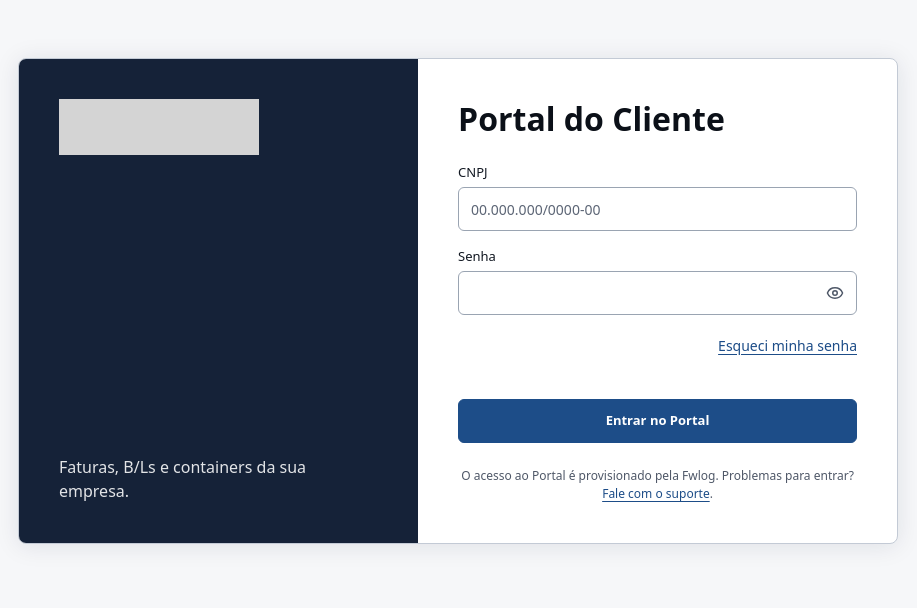
Test: mostra erro de conexao quando o login falha por rede
Type "12.345.678/0001-95" into the field with placeholder "00.000.000/0000-00". click: [658, 209]
box: [458,187,857,231]
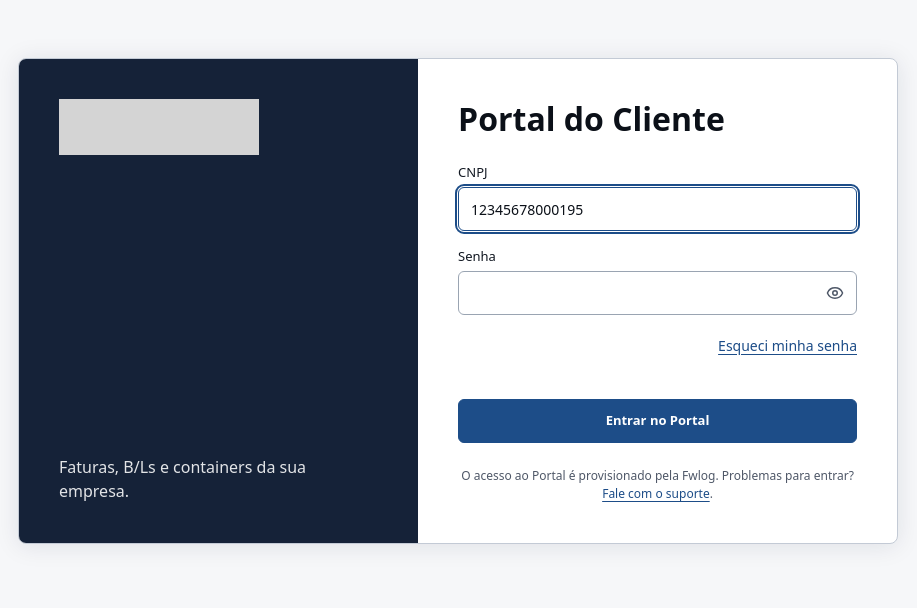
Type "senha-secreta" into the password field labelled "Senha". click: [658, 293]
box: [458,271,857,315]
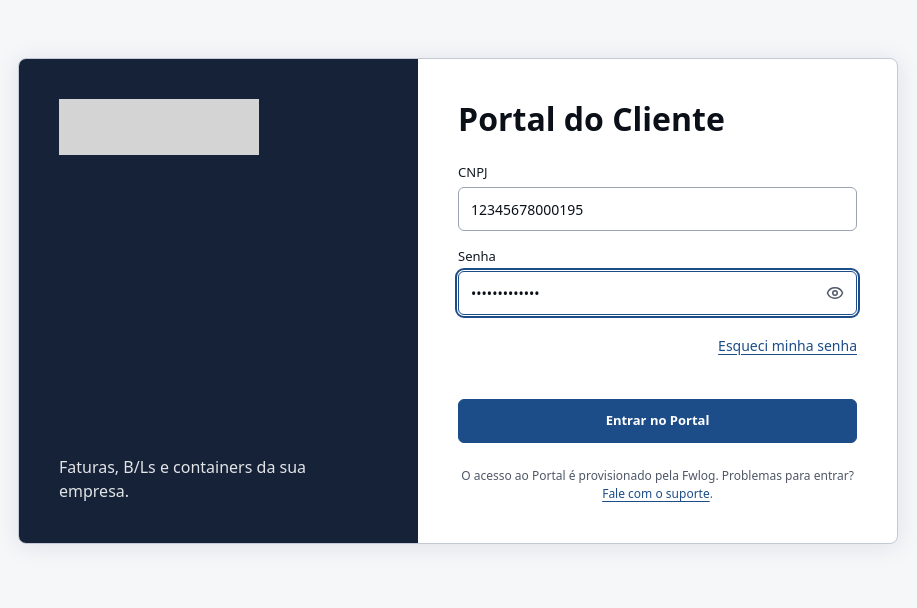
Click the button "Entrar no Portal". click: [658, 421]
box: [458,399,857,443]
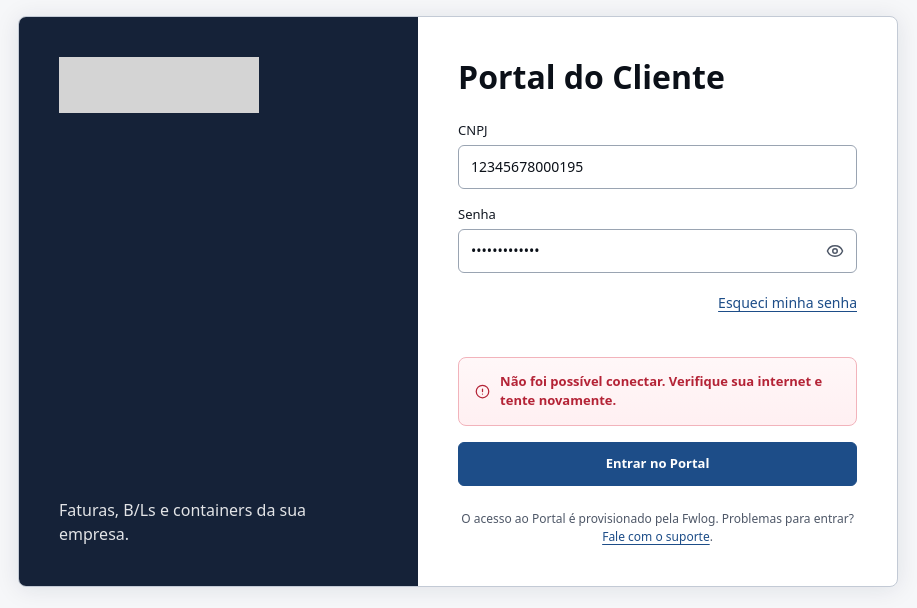
Result: the text "Não foi possível conectar. Verifique sua internet e tente novamente." is shown at [458,356,857,426]
